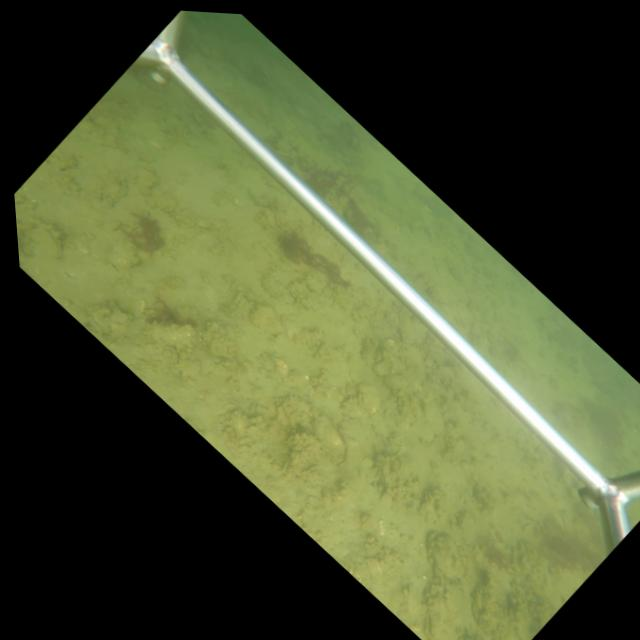Oyster-Closed: (426, 529, 466, 584), (310, 412, 349, 468), (375, 456, 393, 494)
